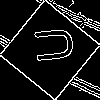U: (25, 25, 75, 66)
